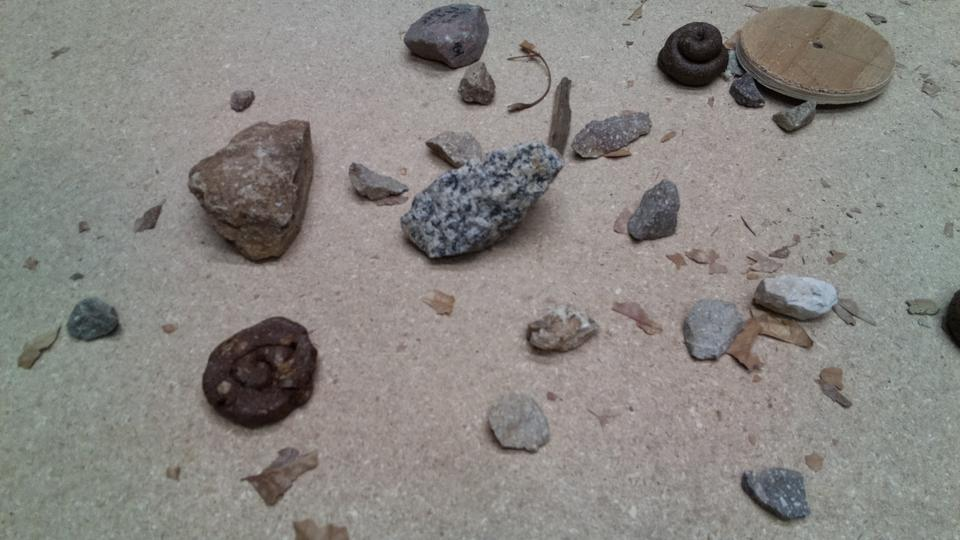poop: (201, 312, 321, 431), (655, 18, 730, 89)
